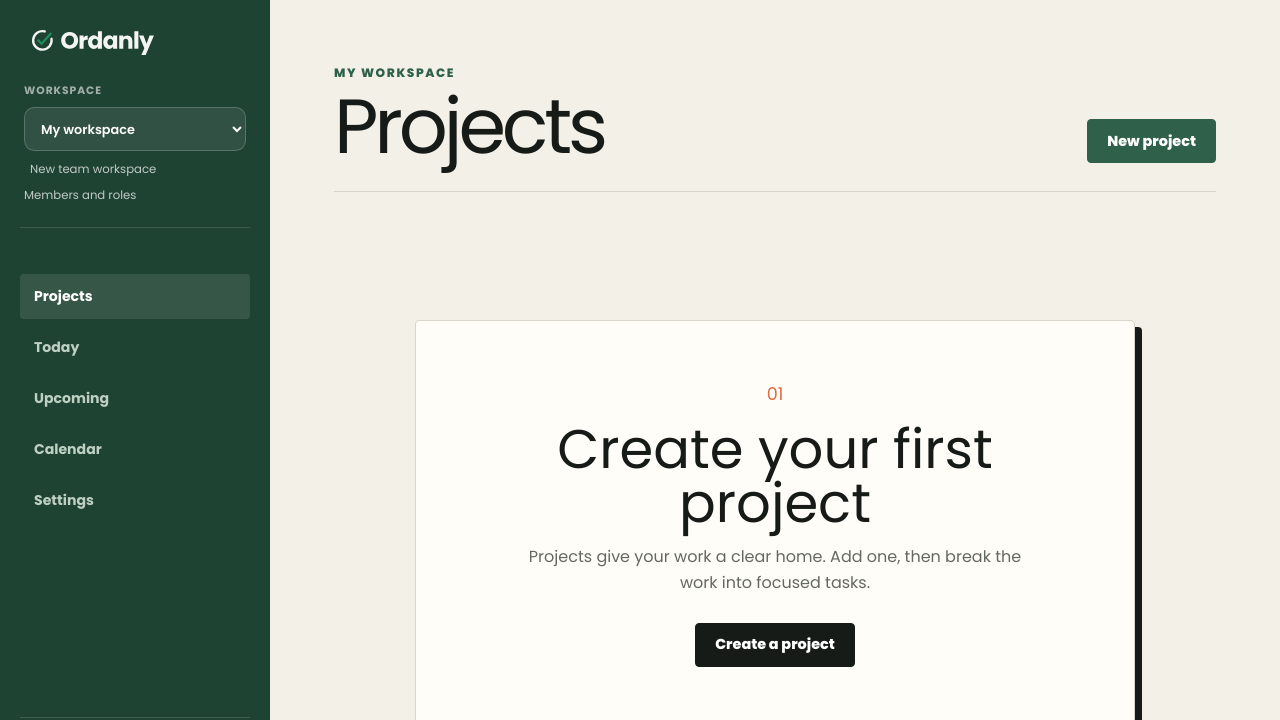
Test: Workspace pages › opens the project dialog from the empty state
Expected: the heading "Create your first project" is shown, [557,411,993,541]
Click the button "Create a project" at (775, 644), box [695,622,855,666]
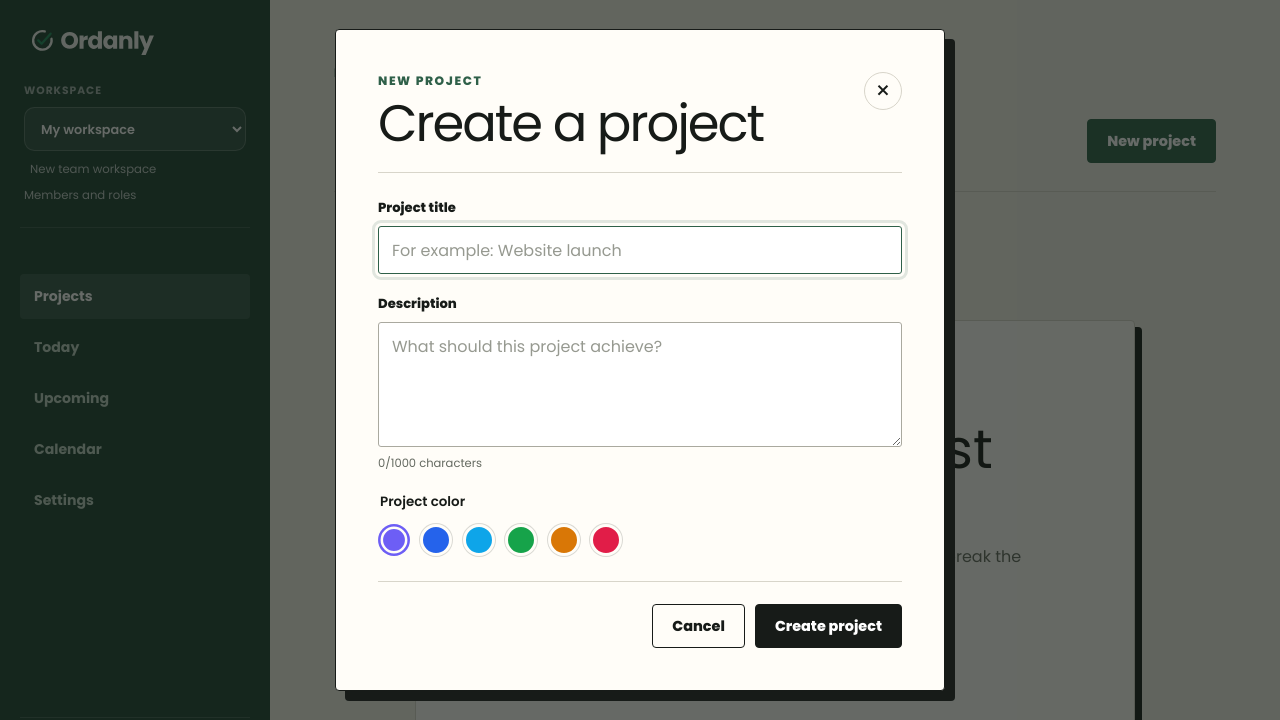
Expected: the dialog "Create a project" is shown, [335,29,945,691]
